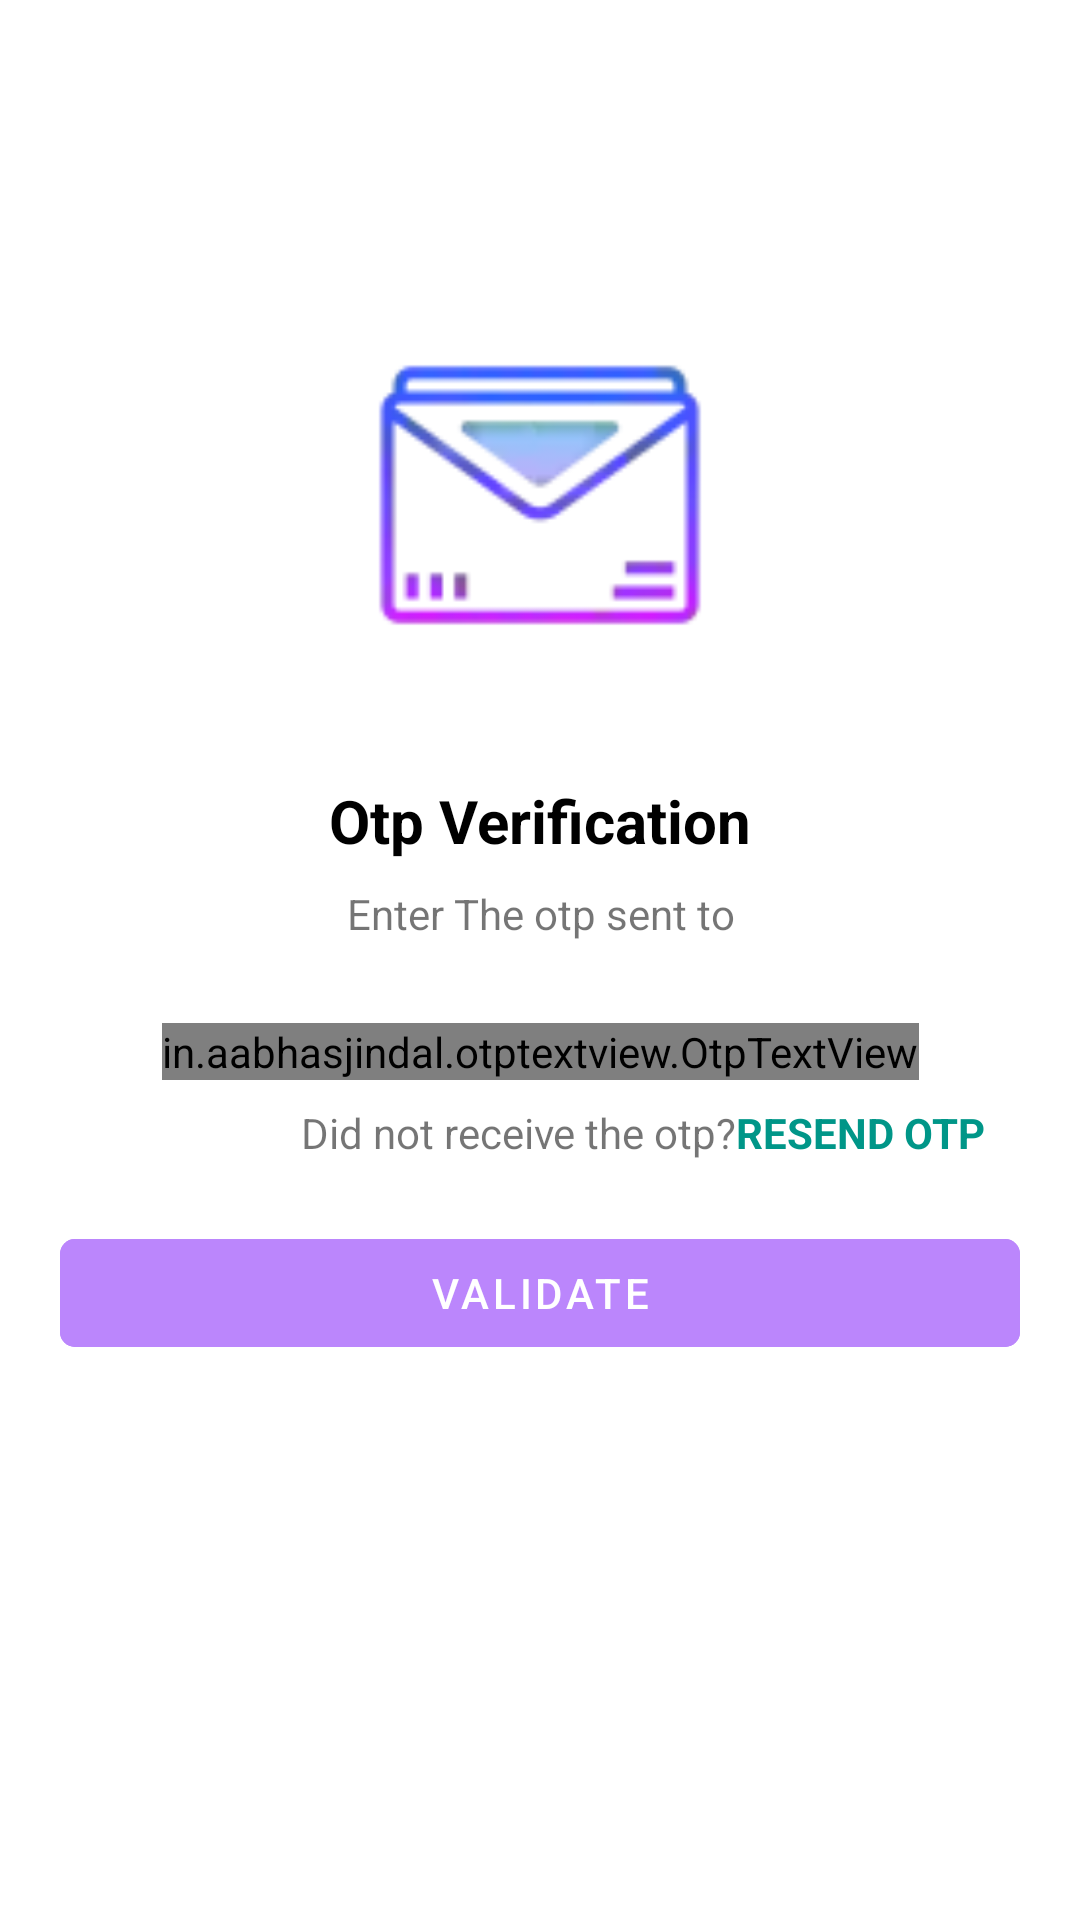

Icons on this 1080x1920 Android screen, each with its box as (x1, y1, x2, y2):
mail: (379, 365, 701, 625)
